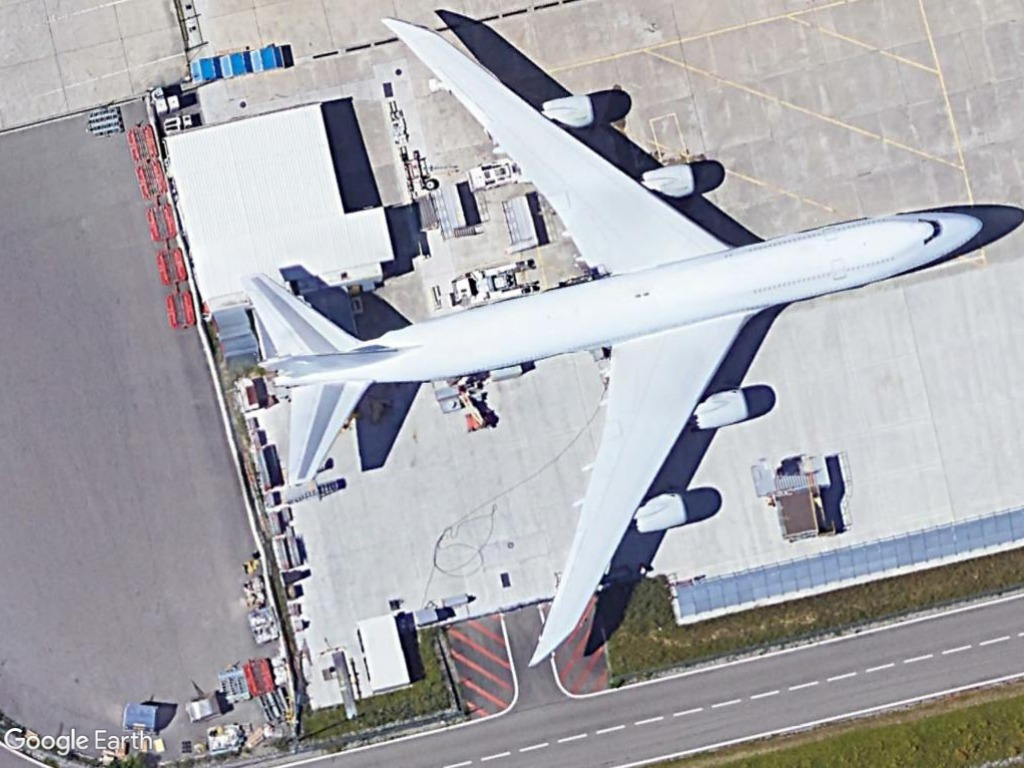airliner: (239, 9, 988, 674)
pushback: (446, 258, 536, 311)
